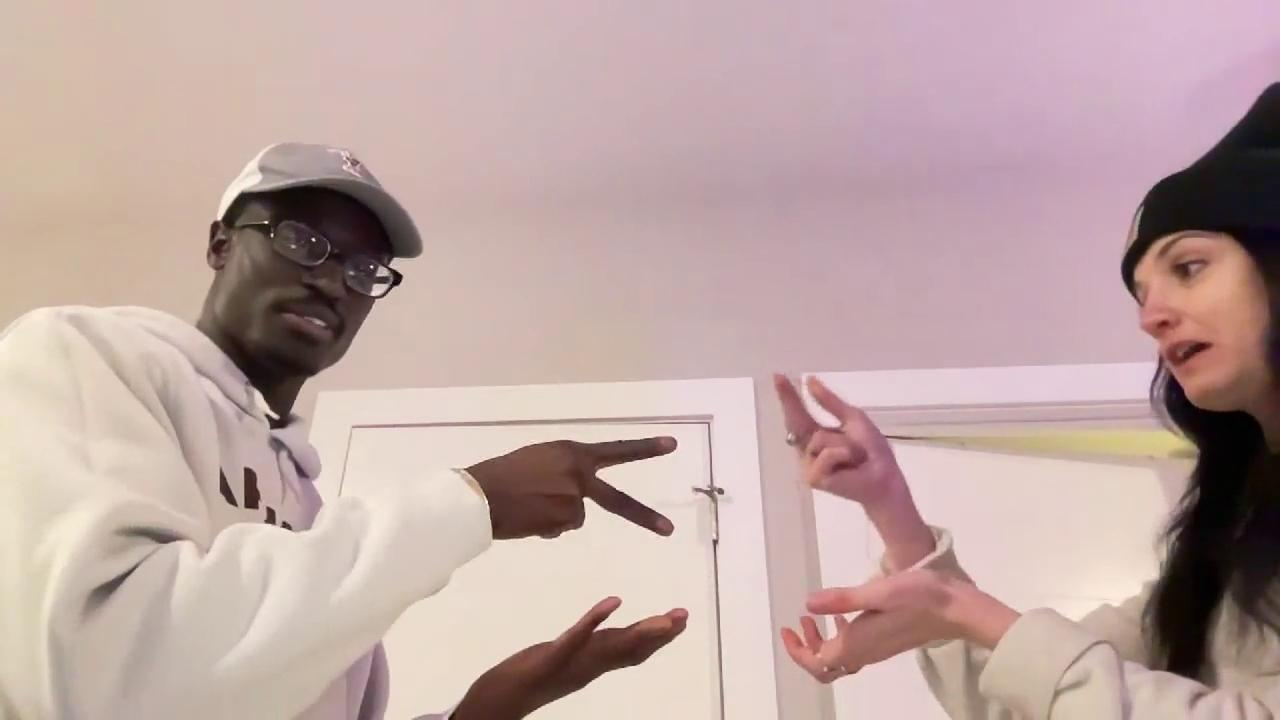Scissors: (466, 430, 685, 539), (777, 373, 895, 499)
